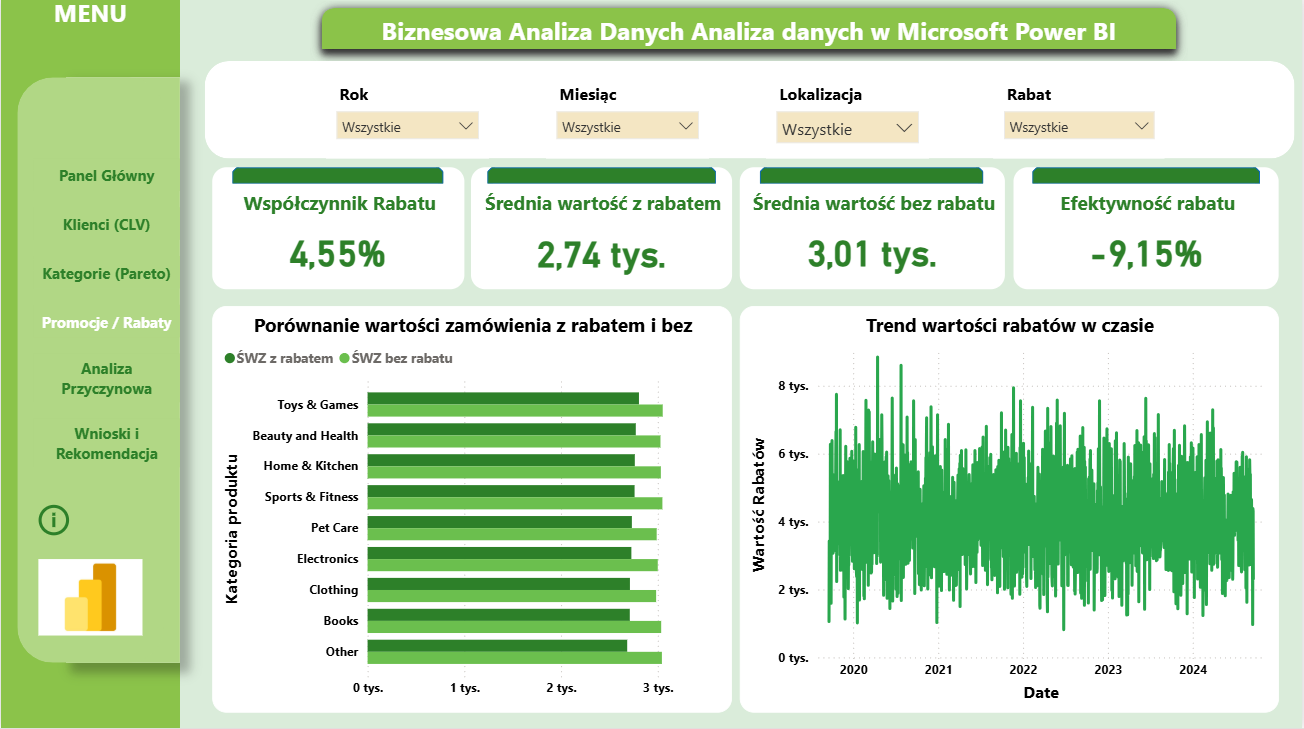

The page's visual inventory and layout, read from the dashboard file:
{"tool":"powerbi","page":{"name":"Promocje / Rabaty","canvas":[1280,720],"ordinal":4},"visuals":[{"type":"shape","title":"MENU","box":[0,0,176,720],"z":0,"group":"g1"},{"type":"shape","title":"naglowek","box":[304,0,864,64],"z":0},{"type":"actionButton","title":"Wnioski i Rekomendacja","box":[32,416,144,48],"z":0,"group":"g2"},{"type":"group","id":"g1","title":"Menu","box":[0,0,176,720],"z":1000},{"type":"shape","title":"boczny pasek2","box":[64,80,112,576],"z":1000,"group":"g1"},{"type":"actionButton","title":"insight","box":[32,352,144,48],"z":1000,"group":"g2"},{"type":"shape","title":"boczny pasek1","box":[16,80,144,576],"z":2000,"group":"g1"},{"type":"card","title":"Współczynnik Rabatu","fields":{"Values":["Sprzedaz.Współczynnik Rabatu %"]},"box":[207.7,168.8,247.6,119.7],"z":2000},{"type":"actionButton","title":"promocje i rabaty","box":[32,304,144,32],"z":2000,"group":"g2"},{"type":"card","title":"Średnia wartość z rabatem","fields":{"Values":["Sprzedaz.ŚWZ z rabatem"]},"box":[462.5,168.8,256.8,119.7],"z":3000},{"type":"actionButton","title":"Pereto","box":[32,256,144,32],"z":3000,"group":"g2"},{"type":"image","title":"logo","box":[32,544,112,96],"z":3000,"group":"g1"},{"type":"group","id":"g2","title":"strony","box":[32,160,144,376],"z":4000,"group":"g1"},{"type":"card","title":"Średnia wartość bez rabatu","fields":{"Values":["Sprzedaz.ŚWZ bez rabatu"]},"box":[726.5,168.8,260.9,119.7],"z":4000},{"type":"actionButton","title":"klienci","box":[32,208,144,32],"z":4000,"group":"g2"},{"type":"shape","title":"filtry","box":[200,64,1072,96],"z":5000},{"type":"actionButton","title":"Panel","box":[32,160,144,32],"z":5000,"group":"g2"},{"type":"slicer","title":"Rabat","fields":{"Values":["Rabat.Discount Availed"]},"box":[976,80,168,80],"z":6000},{"type":"actionButton","title":"info","box":[32,496,40,40],"z":6000,"group":"g2"},{"type":"slicer","title":"lokalizacja","fields":{"Values":["Lokalizacja.Location"]},"box":[752,80,160,80],"z":7000},{"type":"slicer","title":"miesiac","fields":{"Values":["Kalendarz.MonthName"]},"box":[536,80,160,80],"z":8000},{"type":"slicer","title":"rok","fields":{"Values":["Kalendarz.Year"]},"box":[320,80,160,80],"z":9000},{"type":"shape","box":[227.2,168.8,207.7,16.4],"z":10000},{"type":"shape","box":[746.9,168.8,220,16.4],"z":11000},{"type":"shape","box":[478.9,168.8,225.1,16.4],"z":12000},{"type":"card","title":"Efektywność rabatu","fields":{"Values":["Sprzedaz.Efektywność Rabatu %"]},"box":[995.6,168.8,260.9,119.7],"z":13000},{"type":"shape","box":[1014,168.8,224.1,16.4],"z":14000},{"type":"clusteredBarChart","title":"Porównanie wartości zamówienia z rabatem i bez","fields":{"Category":["Produkt.Kategoria produktu"],"Y":["Sprzedaz.ŚWZ z rabatem","Sprzedaz.ŚWZ bez rabatu"]},"box":[207.7,304.9,511.6,400.1],"z":15000},{"type":"lineChart","title":"Trend wartości rabatów w czasie","fields":{"Category":["Kalendarz.Date"],"Y":["Sprzedaz.Wartość Rabatów"]},"box":[726.5,304.9,530,400.1],"z":16000}]}

Visuals, with their boxes in screenshot pixels (x1, y1, x2, y2), scaled from the page's 1280x720 canvas onto the 1304x729 screenshot:
"MENU" shape: BBox(0, 0, 179, 728)
"naglowek" shape: BBox(310, 0, 1190, 65)
"Wnioski i Rekomendacja" actionButton: BBox(33, 421, 179, 470)
"Menu" group: BBox(0, 0, 179, 728)
"boczny pasek2" shape: BBox(65, 81, 179, 664)
"insight" actionButton: BBox(33, 356, 179, 405)
"boczny pasek1" shape: BBox(16, 81, 163, 664)
"Współczynnik Rabatu" card: BBox(212, 171, 464, 292)
"promocje i rabaty" actionButton: BBox(33, 308, 179, 340)
"Średnia wartość z rabatem" card: BBox(471, 171, 733, 292)
"Pereto" actionButton: BBox(33, 259, 179, 292)
"logo" image: BBox(33, 551, 147, 648)
"strony" group: BBox(33, 162, 179, 543)
"Średnia wartość bez rabatu" card: BBox(740, 171, 1006, 292)
"klienci" actionButton: BBox(33, 211, 179, 243)
"filtry" shape: BBox(204, 65, 1296, 162)
"Panel" actionButton: BBox(33, 162, 179, 194)
"Rabat" slicer: BBox(994, 81, 1165, 162)
"info" actionButton: BBox(33, 502, 73, 543)
"lokalizacja" slicer: BBox(766, 81, 929, 162)
"miesiac" slicer: BBox(546, 81, 709, 162)
"rok" slicer: BBox(326, 81, 489, 162)
shape: BBox(231, 171, 443, 188)
shape: BBox(761, 171, 985, 188)
shape: BBox(488, 171, 717, 188)
"Efektywność rabatu" card: BBox(1014, 171, 1280, 292)
shape: BBox(1033, 171, 1261, 188)
"Porównanie wartości zamówienia z rabatem i bez" clusteredBarChart: BBox(212, 309, 733, 714)
"Trend wartości rabatów w czasie" lineChart: BBox(740, 309, 1280, 714)
